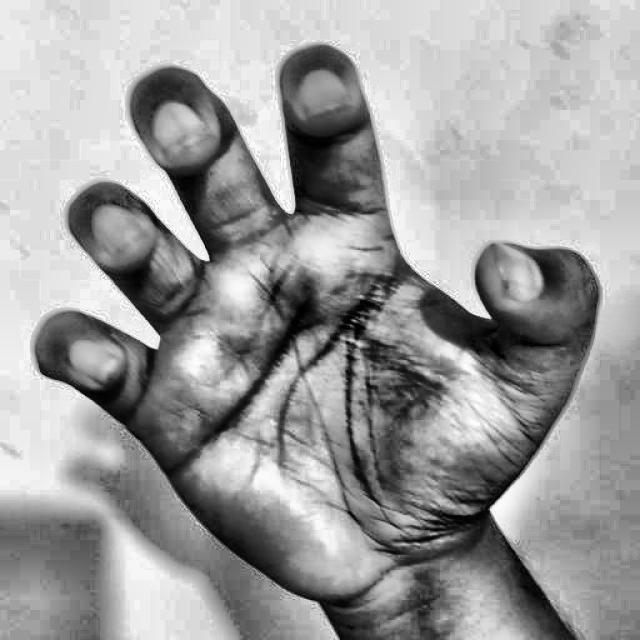Ja: (25, 25, 605, 640)
